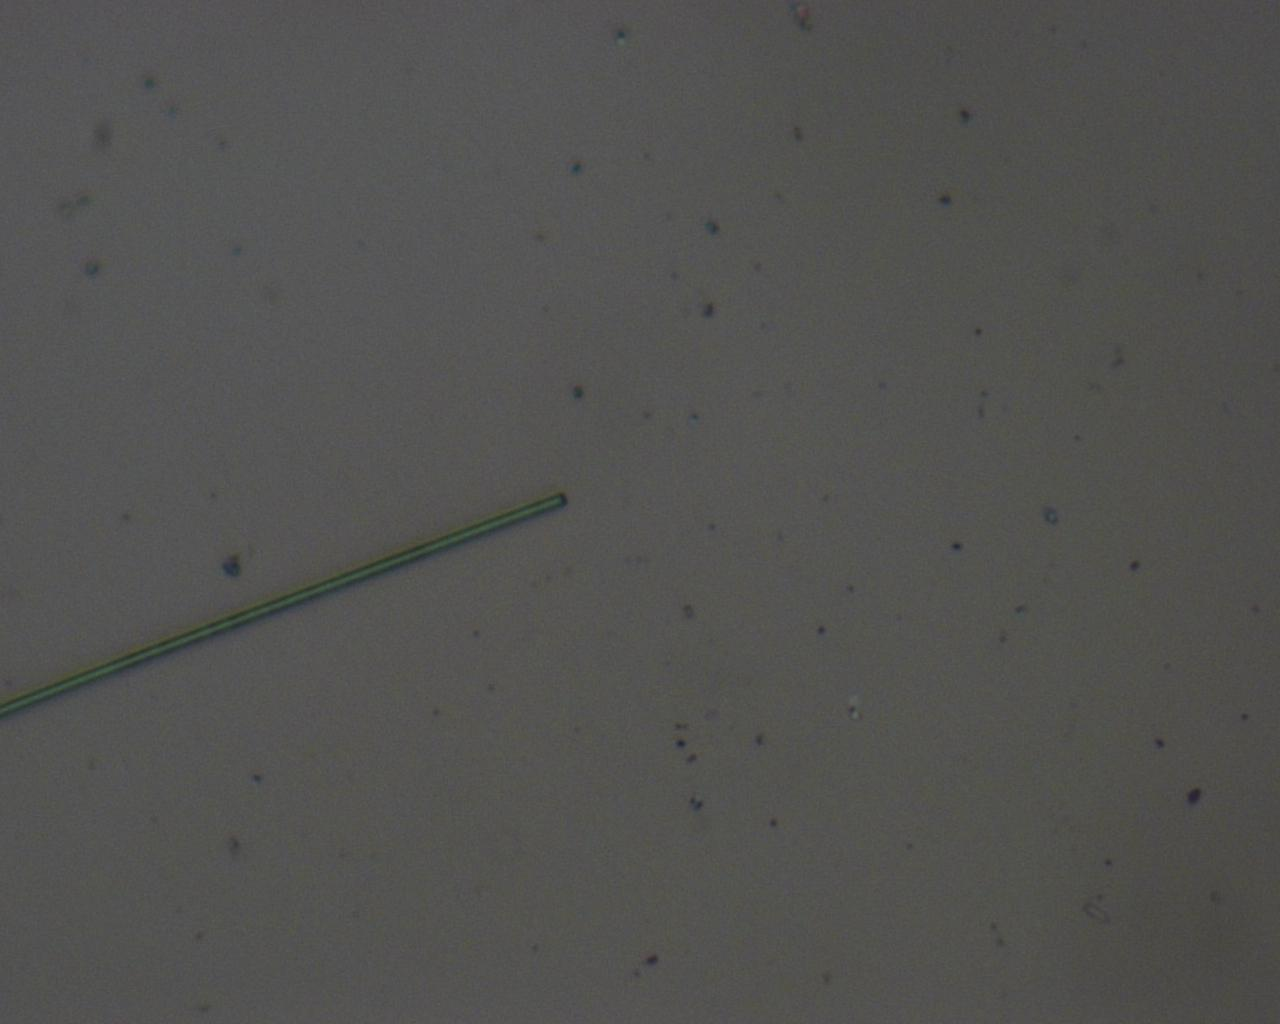fiber: (0, 492, 569, 721)
